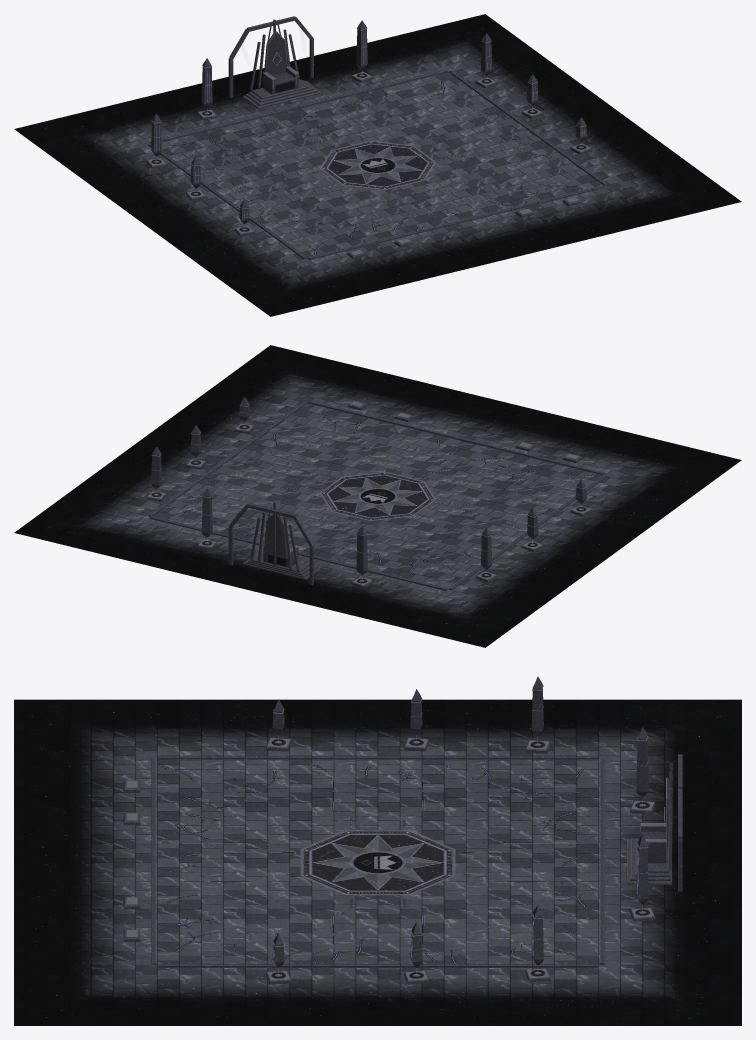
Rendered from throne.glb.
The picture shows the model from 3 angles, top to bottom: view 1: azimuth 30°, elevation 25°; view 2: azimuth 150°, elevation 25°; view 3: azimuth 270°, elevation 25°; orthographic projection. The views are drawn at different scales.
Parts seen in each view (by area): view 1: FLOOR_NULL_MARBLE, BOUNDS_NULL_BALUSTRADE, BOUNDS_EMPTY_THRONE, BOUNDS_FLOATING_OBELISKS; view 2: FLOOR_NULL_MARBLE, BOUNDS_FLOATING_OBELISKS, BOUNDS_NULL_BALUSTRADE, BOUNDS_EMPTY_THRONE; view 3: FLOOR_NULL_MARBLE, BOUNDS_NULL_BALUSTRADE, BOUNDS_FLOATING_OBELISKS, BOUNDS_EMPTY_THRONE.
Part boxes in pixels (bbox=[...]): FLOOR_NULL_MARBLE: bbox=[14, 14, 741, 316]; BOUNDS_NULL_BALUSTRADE: bbox=[148, 69, 607, 259]; BOUNDS_EMPTY_THRONE: bbox=[228, 16, 322, 108]; BOUNDS_FLOATING_OBELISKS: bbox=[146, 20, 592, 236]; FLOOR_NULL_MARBLE: bbox=[14, 345, 741, 647]; BOUNDS_FLOATING_OBELISKS: bbox=[146, 397, 592, 588]; BOUNDS_NULL_BALUSTRADE: bbox=[148, 400, 607, 590]; BOUNDS_EMPTY_THRONE: bbox=[228, 502, 322, 585]; FLOOR_NULL_MARBLE: bbox=[14, 699, 741, 1025]; BOUNDS_NULL_BALUSTRADE: bbox=[123, 755, 604, 967]; BOUNDS_FLOATING_OBELISKS: bbox=[266, 676, 655, 984]; BOUNDS_EMPTY_THRONE: bbox=[626, 754, 682, 891].
Bounding box in the file's own units: 140 × 19.8 × 132.
Materials: 10 (3 with a texture image).
